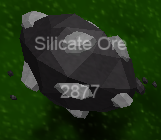Silicate: (34, 36, 128, 99)
